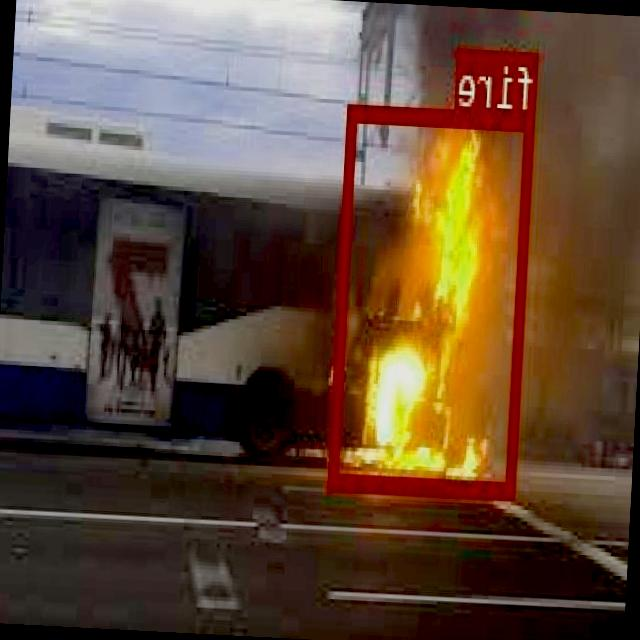fire: (330, 102, 536, 498)
